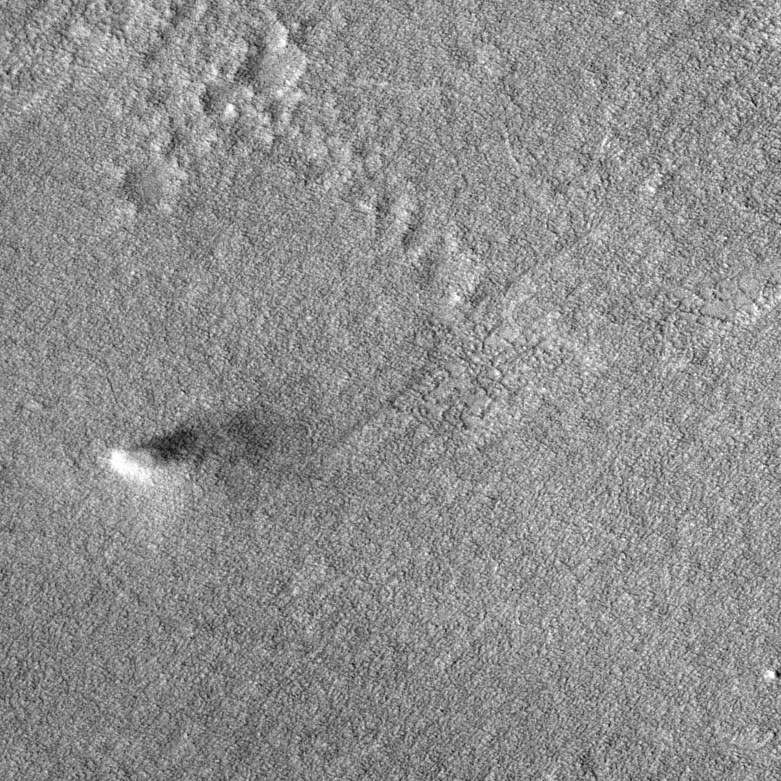dust_devil: (106, 404, 283, 490)
